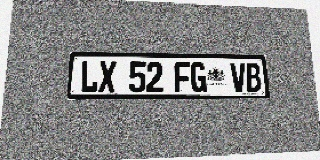2: (147, 62, 163, 93)
5: (129, 61, 146, 93)
B: (245, 63, 262, 92)
F: (174, 62, 191, 92)
G: (190, 62, 207, 92)
L: (80, 61, 99, 93)
V: (230, 63, 247, 92)
X: (98, 61, 116, 93)
